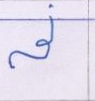anusvara: (49, 5, 53, 9)
